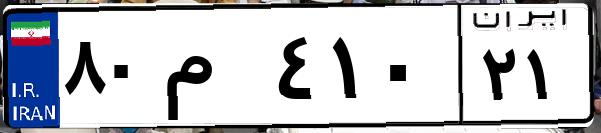0: (385, 28, 445, 110), (110, 28, 158, 98)
1: (330, 28, 385, 110), (525, 38, 570, 115)
2: (475, 38, 525, 113)
4: (270, 28, 330, 110)
8: (57, 26, 110, 100)
م: (158, 20, 270, 120)
